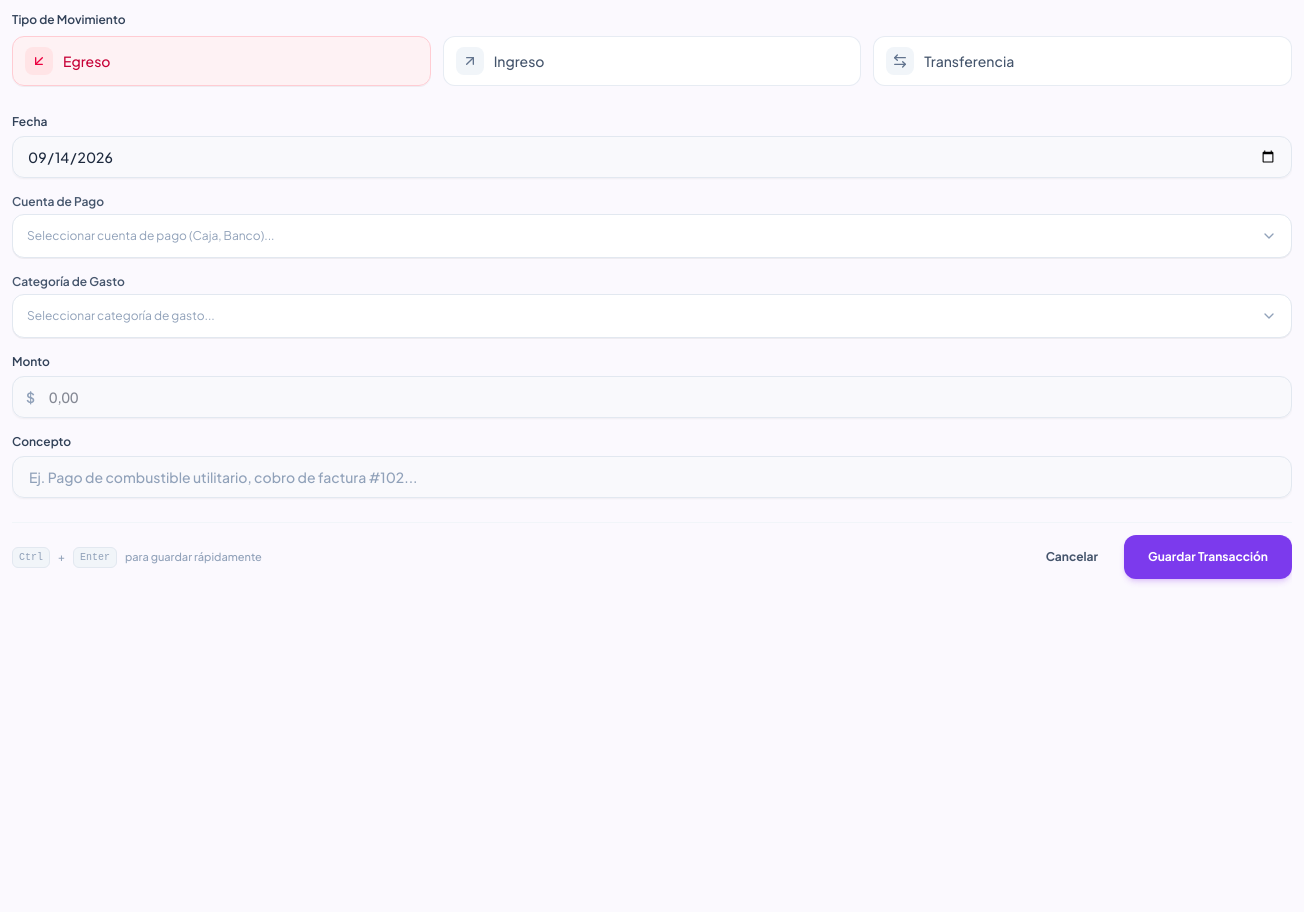
Test: QuickTransactionForm Component (T007) › Form Validation Rules › shows validation errors and blocks submission when required fields are empty
What coordinates should you click on to do the following:
click the button "Guardar Transacción"
I would click on:
 (1208, 557)
Its box is [1124,535,1292,579].
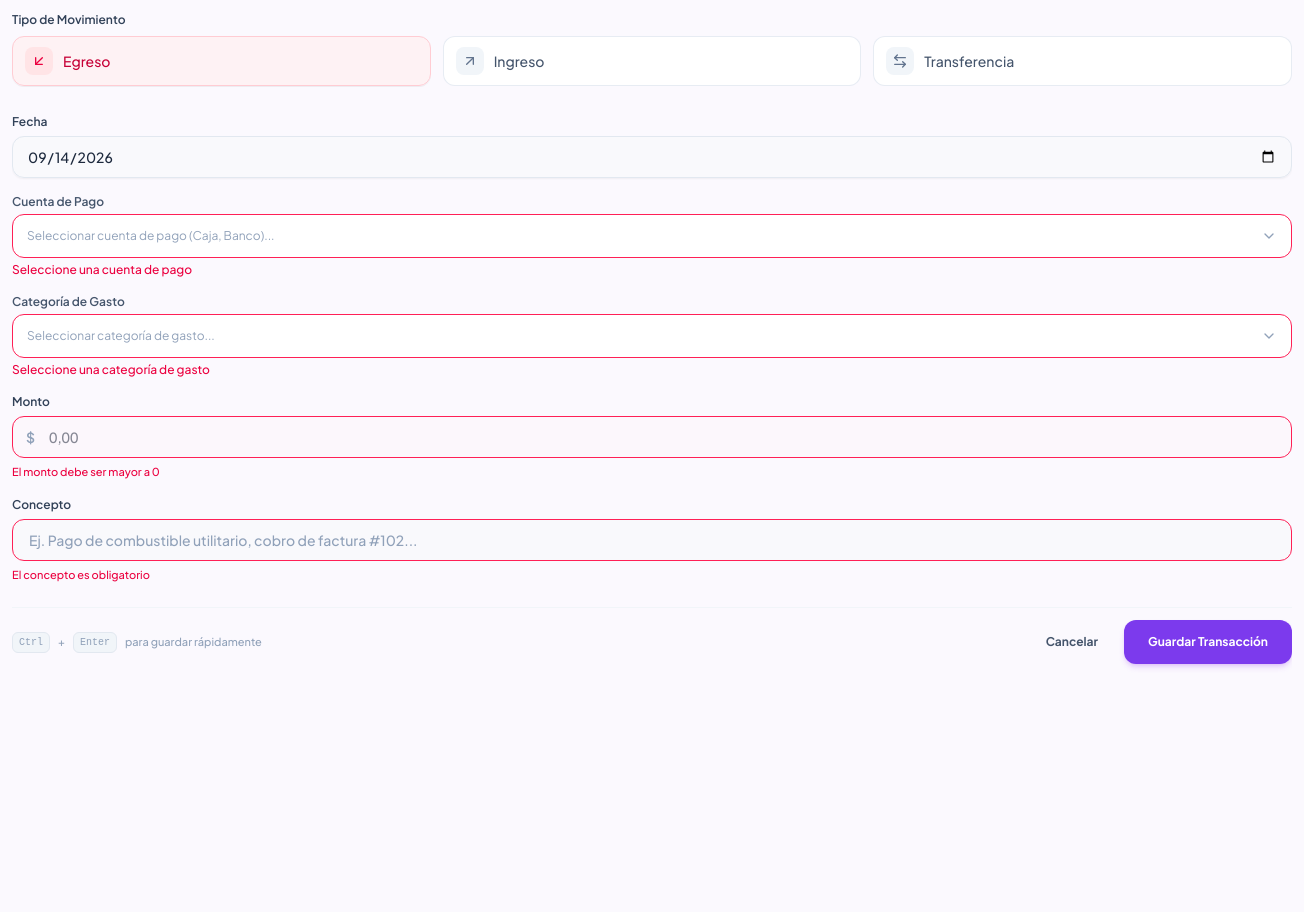
expect the text "Seleccione una cuenta de pago" is shown: met, box [12,262,192,277]
expect the text "Seleccione una categoría de gasto" is shown: met, box [12,362,210,377]
expect the text "El monto debe ser mayor a 0" is shown: met, box [12,465,160,478]
